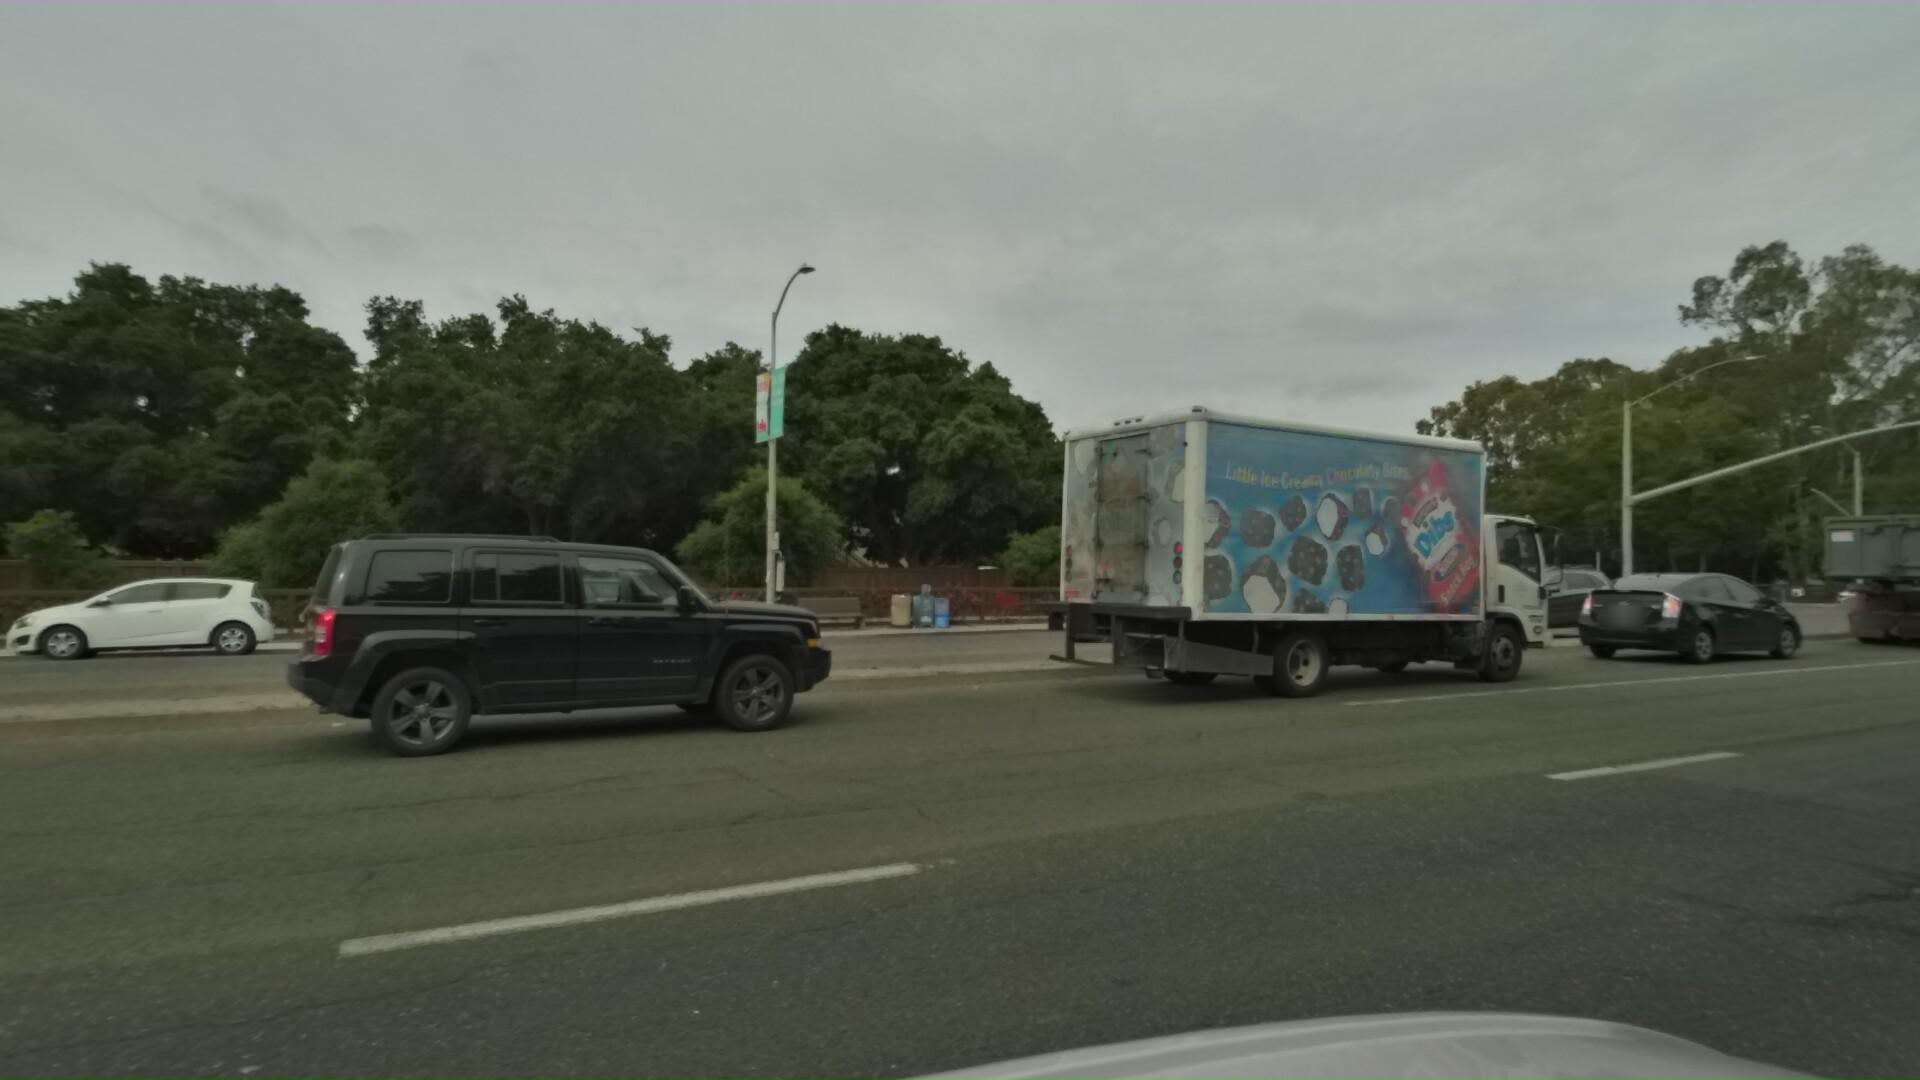car: (158, 514, 812, 785), (1540, 563, 1807, 666), (0, 566, 256, 665), (378, 568, 645, 655), (1390, 560, 1593, 644), (1630, 574, 1741, 608), (1532, 570, 1617, 603)
truck: (982, 375, 1568, 713), (1784, 469, 1920, 646)
